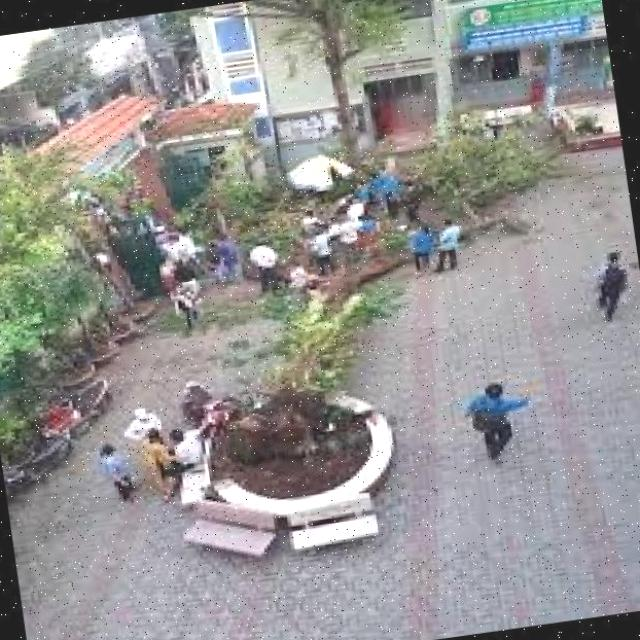fallen_object: (162, 87, 569, 541)
